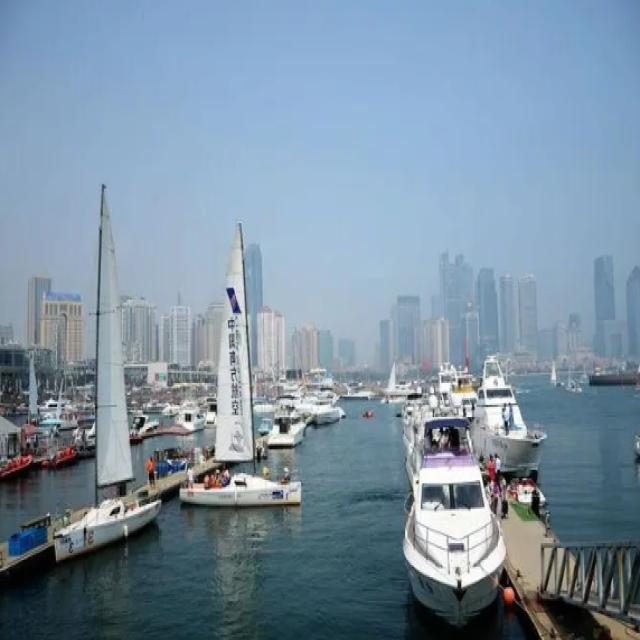houseboat: (396, 359, 504, 612), (472, 346, 546, 468)
sailboat: (47, 198, 159, 566), (168, 225, 294, 518)
